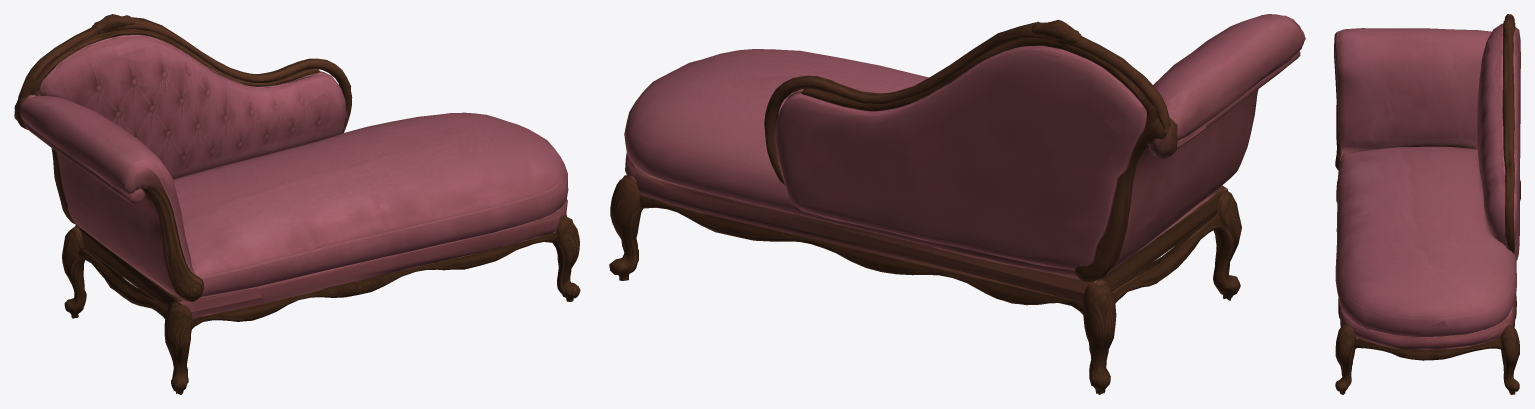
File: rrr_prop_chaise_v1.glb
3 renders of one model, left to right at view 1: azimuth 30°, elevation 25°; view 2: azimuth 150°, elevation 25°; view 3: azimuth 270°, elevation 25°, orthographic. The views are drawn at different scales.
Visible parts, largest first — view 1: Mesh_0; view 2: Mesh_0; view 3: Mesh_0.
Part boxes in pixels (x1,y1,x2,y2): Mesh_0: (14, 14, 580, 394); Mesh_0: (609, 14, 1305, 394); Mesh_0: (1334, 14, 1520, 394).
Size of the model in its own units: 1.53 by 0.9 by 0.6452.
1 material, 1 textured.
